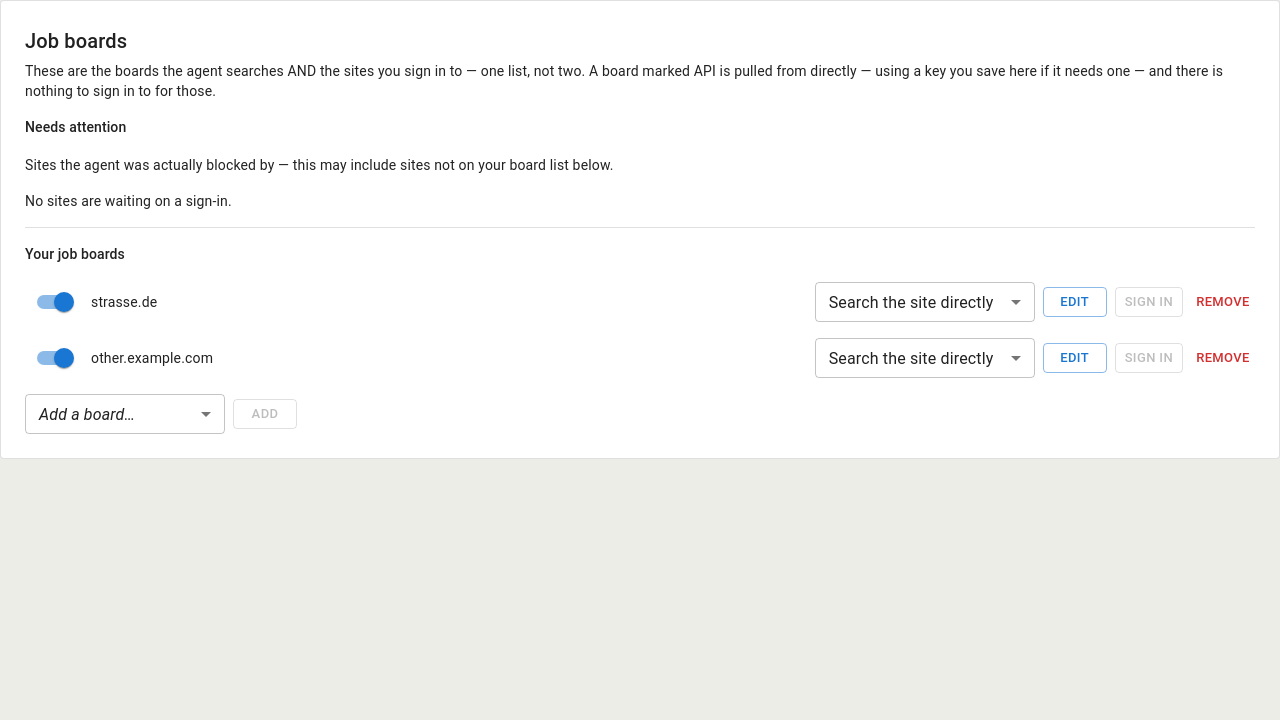
Test case: JobBoardsPage › refuses a source rename that collides, casefolded, with a ß/ss variant of another board
The image size is (1280, 720).
Expected: the heading "Job boards" is shown, [25,29,127,53]
Click the button "Edit" in the row of "other.example.com" at (1075, 358), box [1043,343,1107,373]
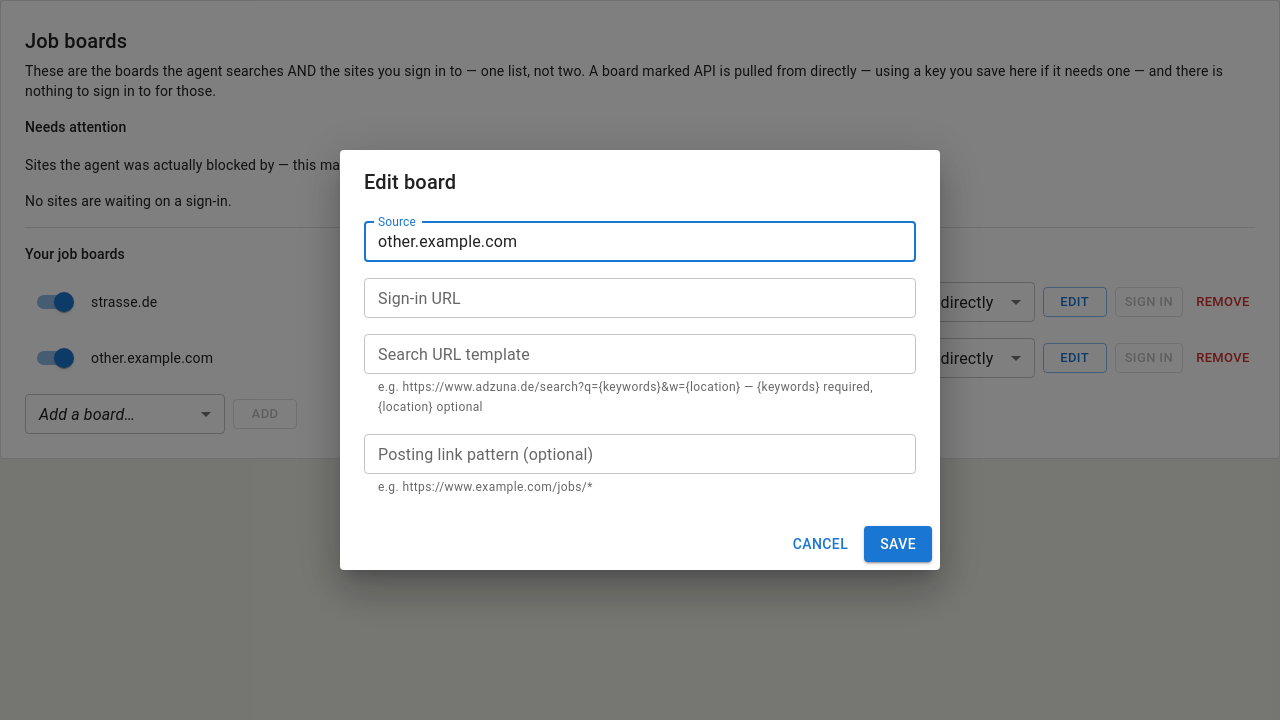
Replace the text in the field labelled "Source" with "straße.de" at (640, 242), box [364,222,916,262]
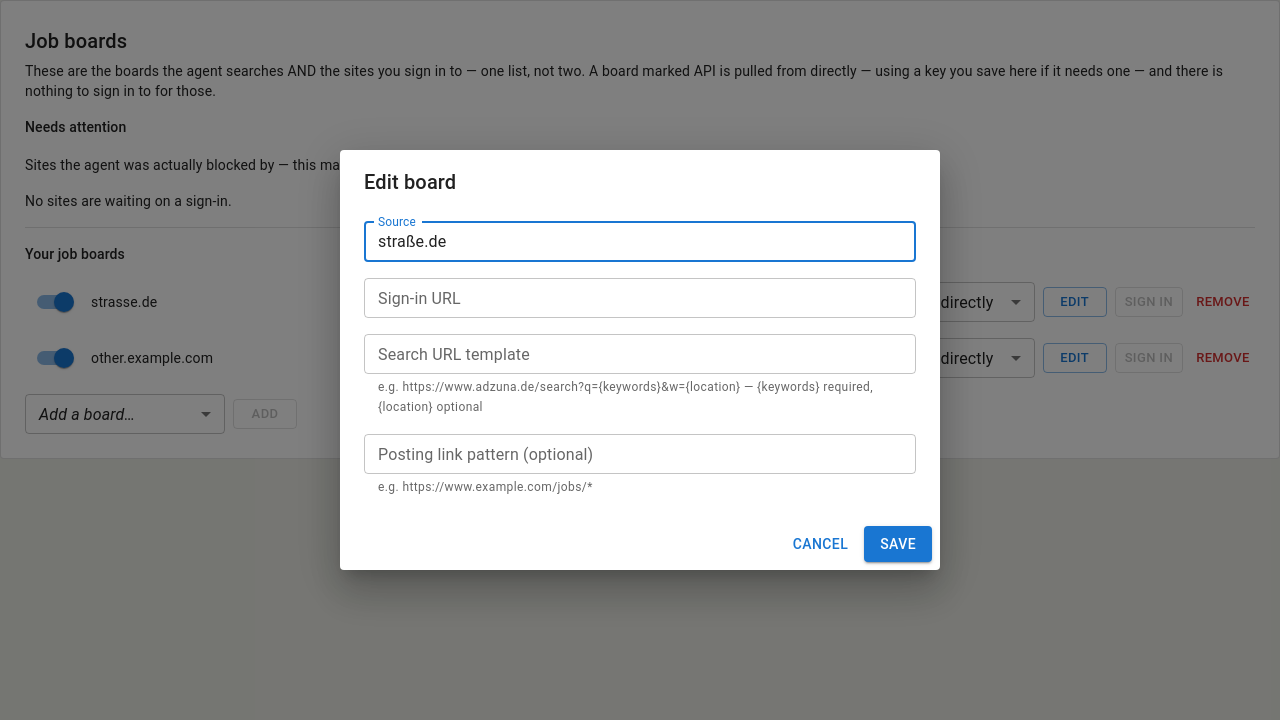
Click the button "Save" at (898, 544), box [864,526,932,562]
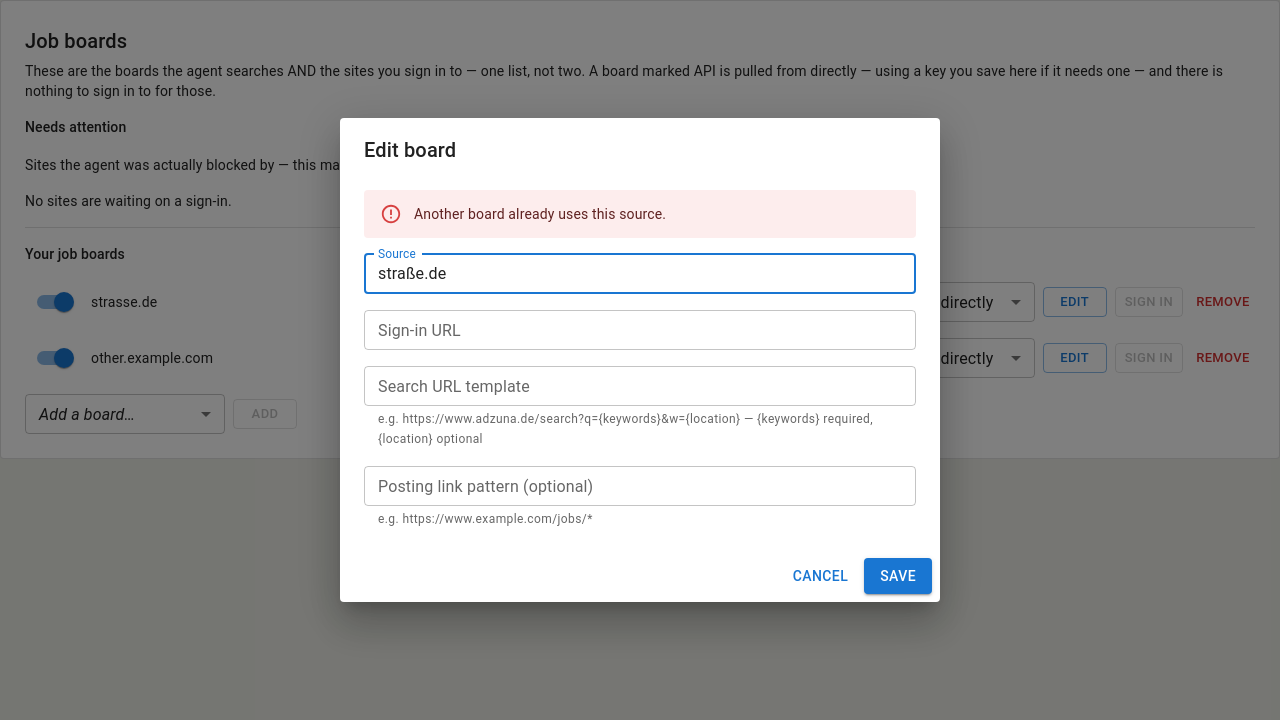
Now the text "Another board already uses this source." is shown, box [414,206,666,222]
